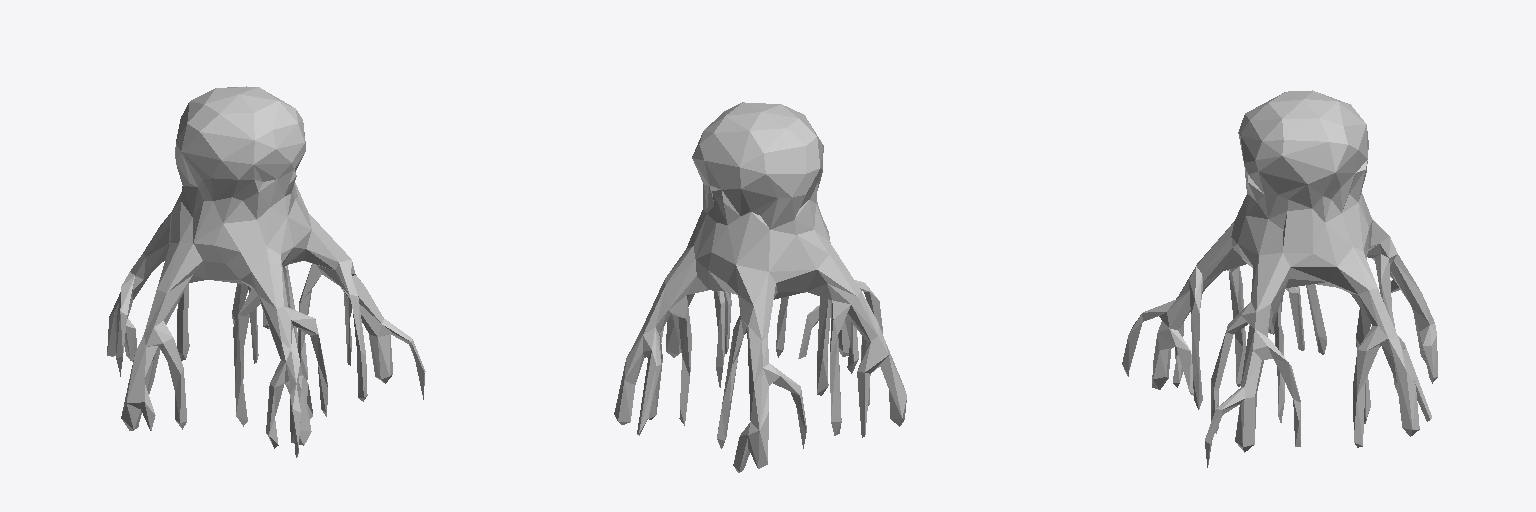
Rendered from EiosTree2.obj.
The picture shows the model from 3 angles: view 1: azimuth 30°, elevation 25°; view 2: azimuth 150°, elevation 25°; view 3: azimuth 270°, elevation 25°; orthographic projection.
Visible parts, largest first — view 1: Mangrovia_Untitled.013; view 2: Mangrovia_Untitled.013; view 3: Mangrovia_Untitled.013.
Part boxes in pixels (x1,y1,x2,y2): Mangrovia_Untitled.013: (107,86,425,457); Mangrovia_Untitled.013: (614,102,906,472); Mangrovia_Untitled.013: (1122,90,1437,467).
Size of the model in its own units: 4.24 by 4.65 by 4.32.